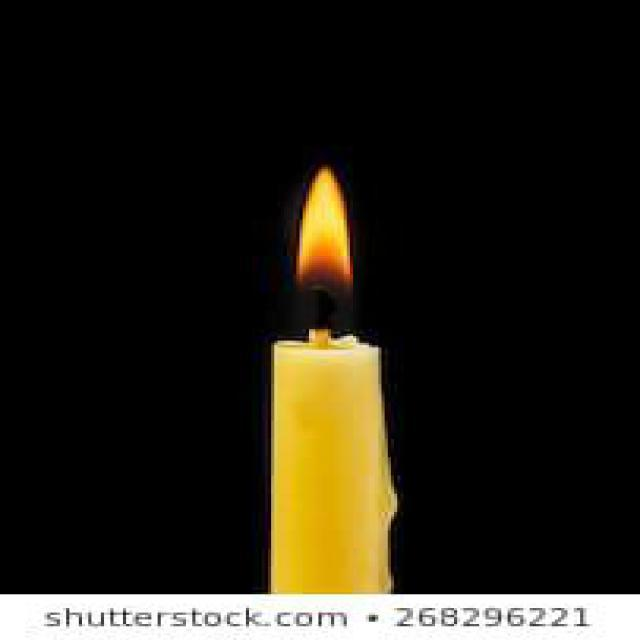Fire: (296, 168, 353, 319)
